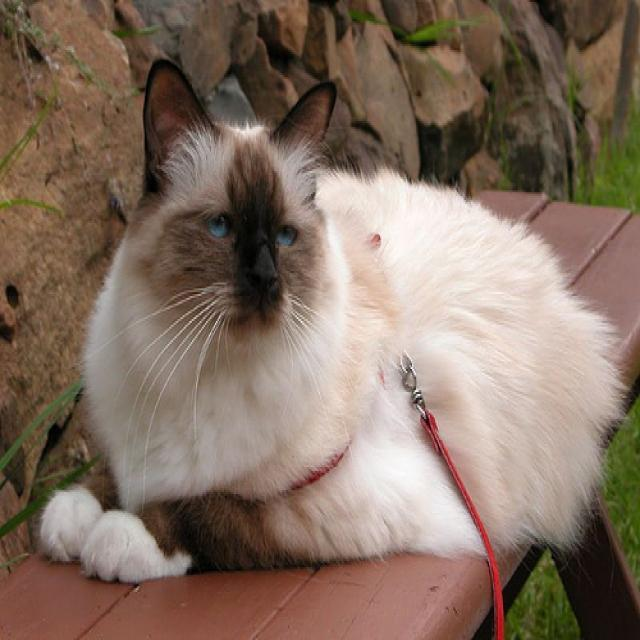Birman: (96, 53, 347, 515)
